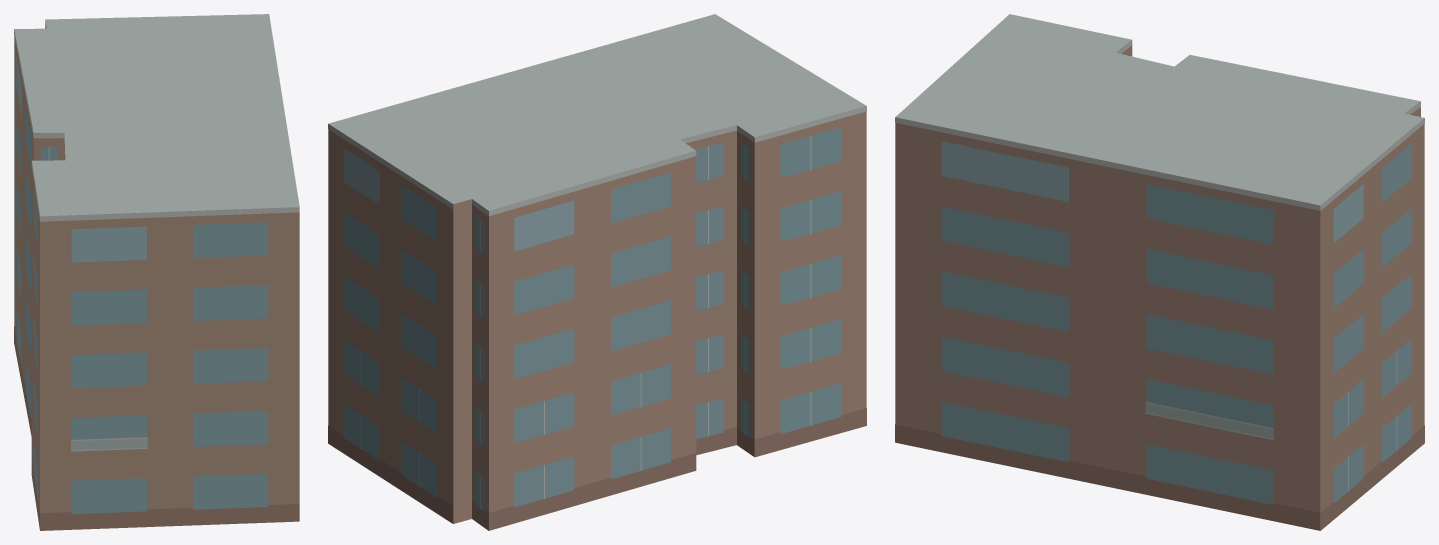
File: survey-upis-32748765.glb
The picture shows the model from 3 angles, left to right: view 1: azimuth 30°, elevation 25°; view 2: azimuth 150°, elevation 25°; view 3: azimuth 270°, elevation 25°; orthographic projection. The views are drawn at different scales.
Parts seen in each view (by area): view 1: survey-upis-32748765.tmp; view 2: survey-upis-32748765.tmp; view 3: survey-upis-32748765.tmp.
Boxes of the visible parts, box(x1,y1,x2,y2) form: survey-upis-32748765.tmp: box(14, 14, 299, 530); survey-upis-32748765.tmp: box(328, 14, 866, 530); survey-upis-32748765.tmp: box(895, 14, 1424, 530).
Size of the model in its own units: 18.31 by 14.5 by 21.4.
